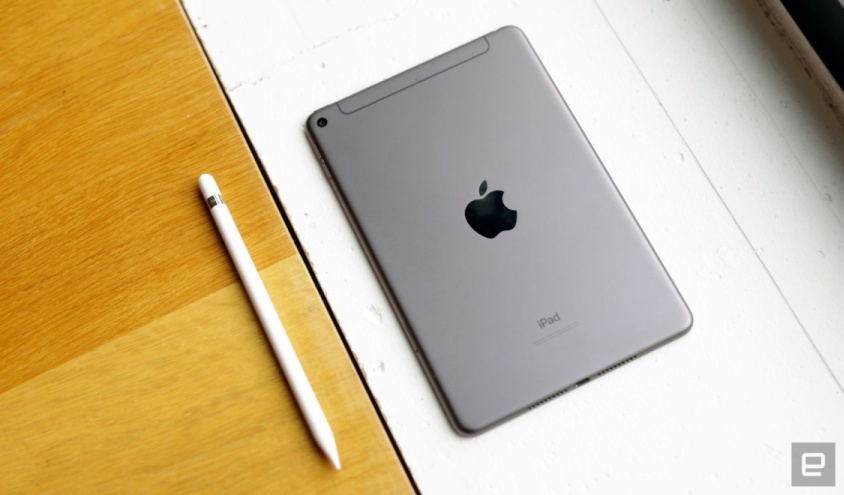apple: (458, 173, 527, 259)
